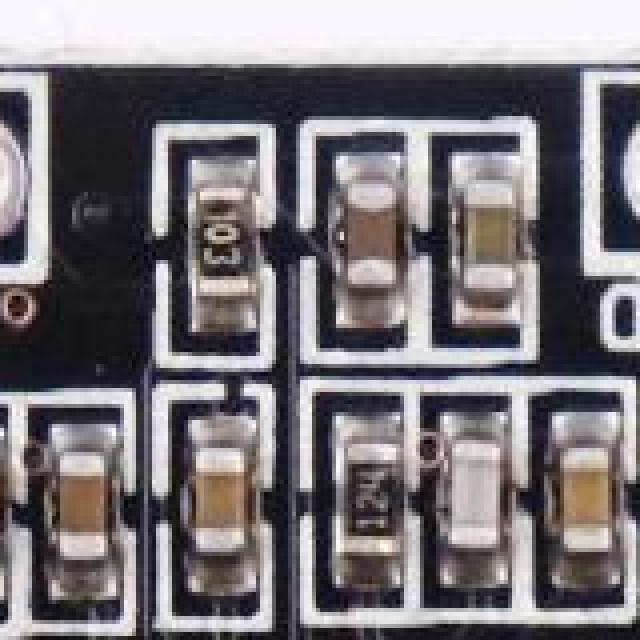capacitor: (552, 428, 624, 592), (444, 424, 506, 576), (48, 432, 110, 576), (352, 172, 408, 306), (464, 168, 518, 302), (192, 440, 246, 572)
resistor: (184, 152, 260, 304), (332, 416, 406, 548)
